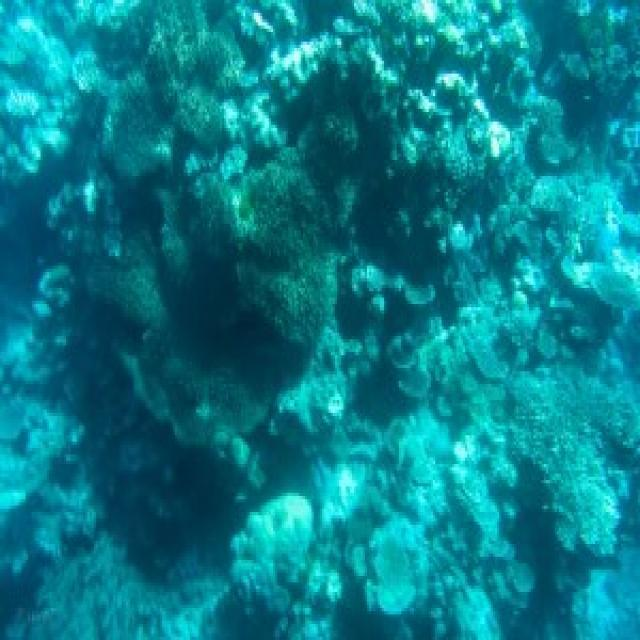Bleached: (222, 433, 507, 640), (221, 37, 325, 184), (1, 1, 83, 163)
Healthy: (97, 170, 270, 437), (218, 88, 390, 351), (510, 347, 640, 531), (104, 1, 234, 180), (525, 1, 640, 165)
